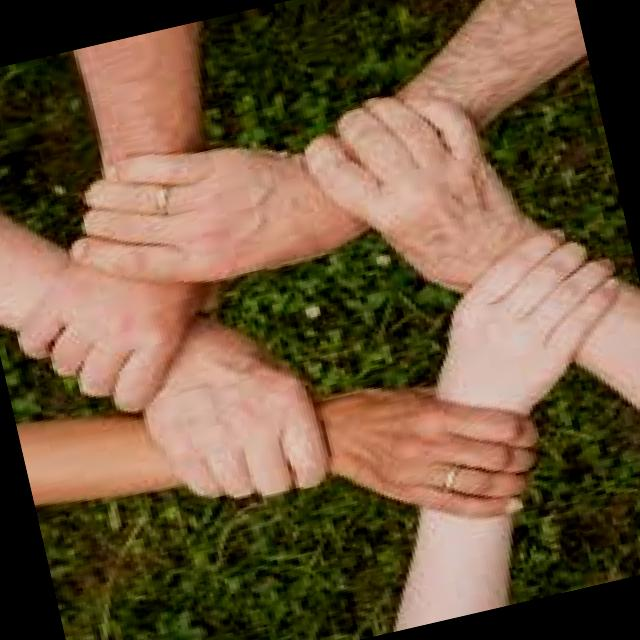Hand: (49, 106, 360, 314), (0, 212, 248, 437), (291, 65, 529, 296), (313, 350, 564, 560), (121, 296, 336, 526), (411, 212, 640, 411)
